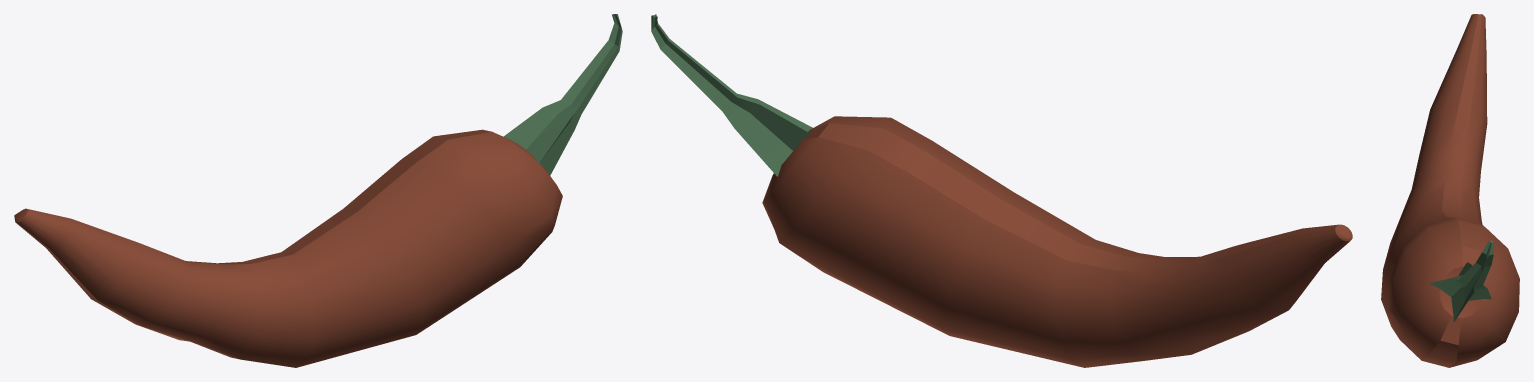
The model's file is Chilly_whole.fbx.
3 views of the same model, side by side, from view 1: azimuth 30°, elevation 25°; view 2: azimuth 150°, elevation 25°; view 3: azimuth 270°, elevation 25° (orthographic). The views are drawn at different scales.
Visible parts, largest first — view 1: pCylinder1, pCylinder4; view 2: pCylinder1, pCylinder4; view 3: pCylinder1, pCylinder4.
Part boxes in pixels (x1=…): pCylinder1: x1=14, y1=129, x2=562, y2=367; pCylinder4: x1=503, y1=14, x2=622, y2=175; pCylinder1: x1=762, y1=116, x2=1352, y2=367; pCylinder4: x1=651, y1=14, x2=812, y2=176; pCylinder1: x1=1381, y1=14, x2=1519, y2=367; pCylinder4: x1=1429, y1=240, x2=1494, y2=321.
Bounding box in the file's own units: 4.13 × 1.56 × 0.8774.
